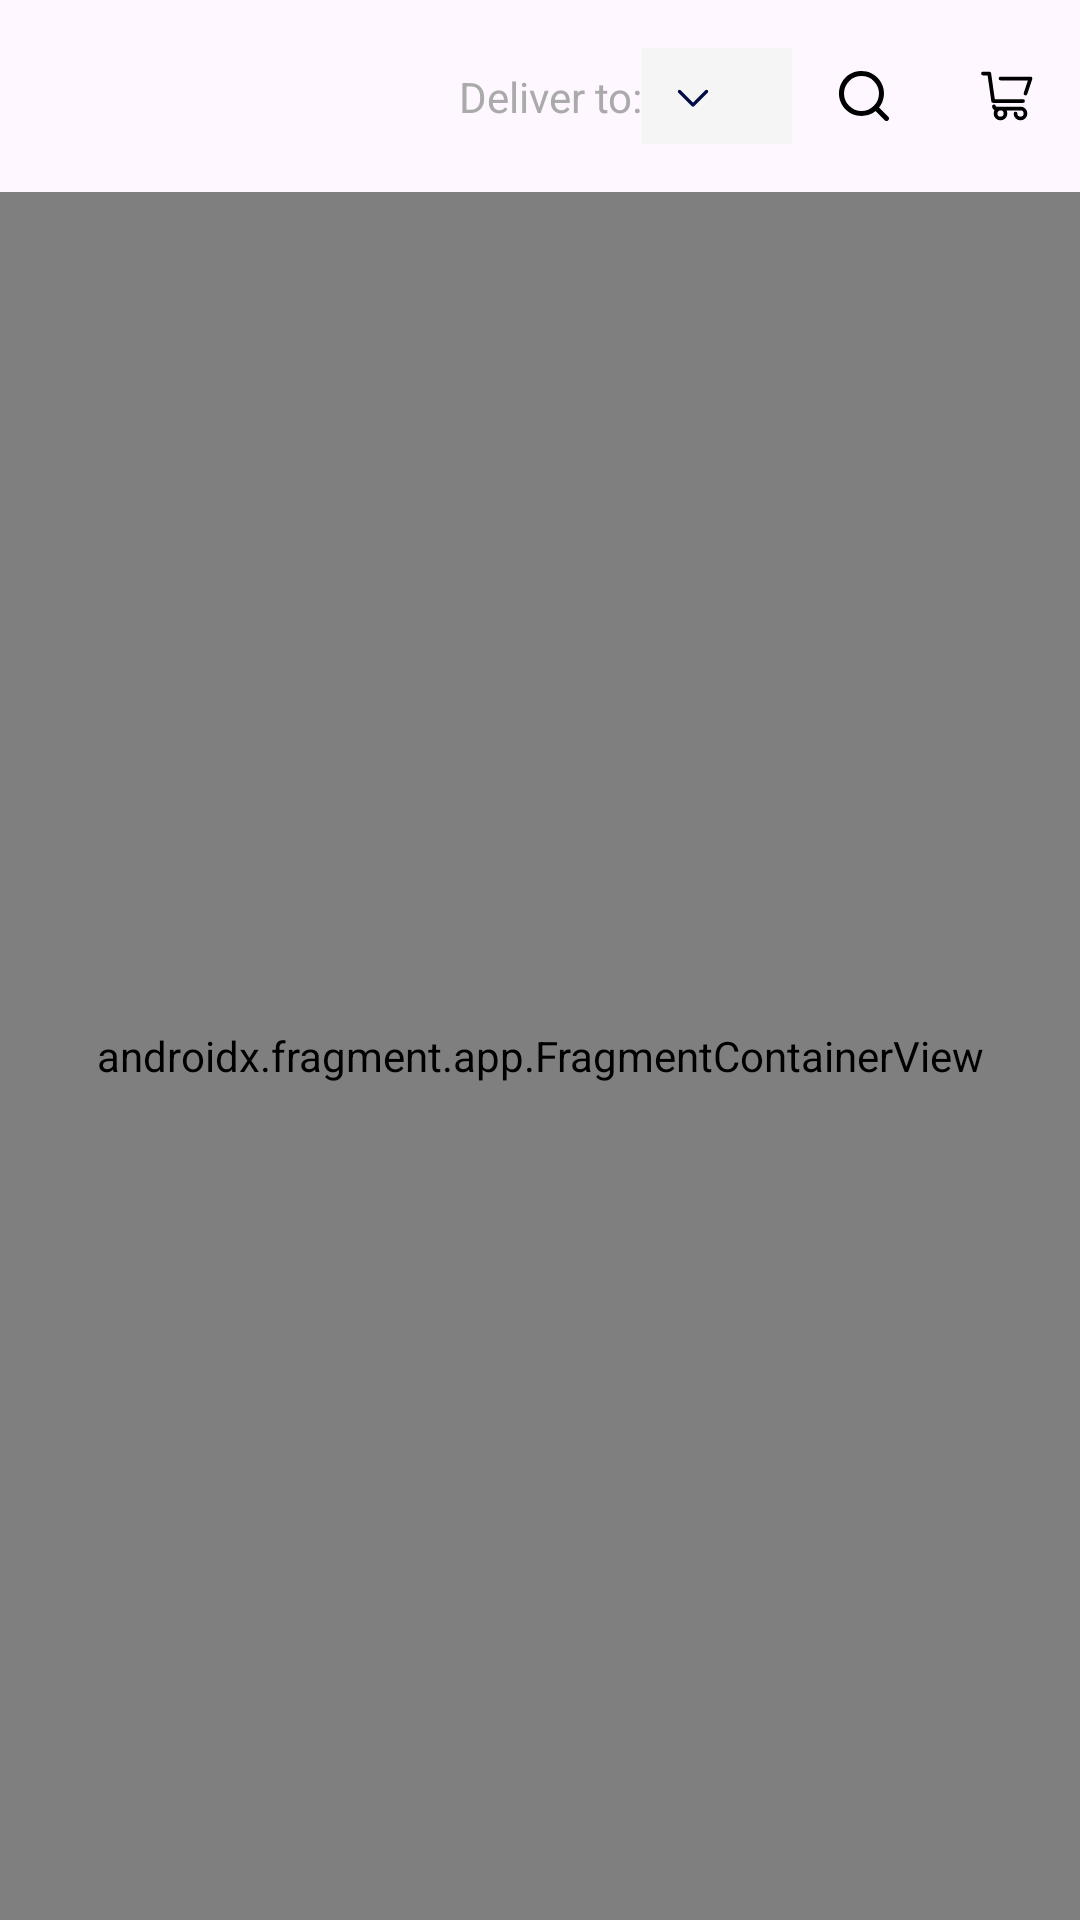

Named icons in this screenshot (1080px×1920px) and their bounding boxes, (x1,y1,x2,y2):
cart: (981,71,1033,121)
search: (839,71,889,121)
